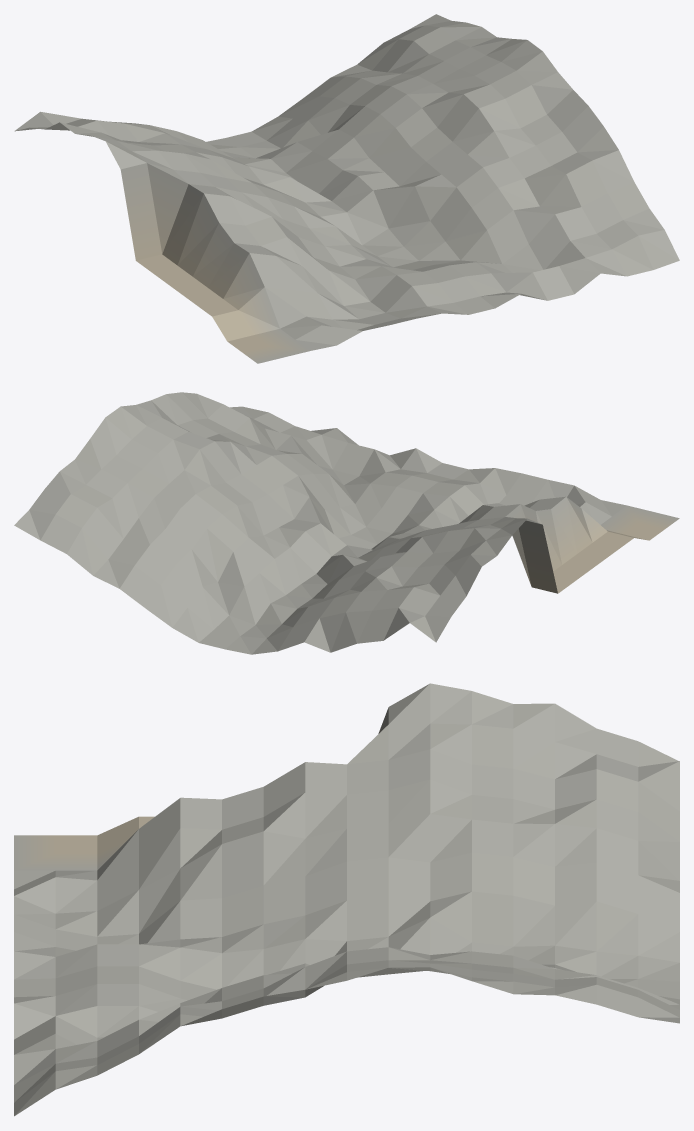
3 views of the same model, one above another, from view 1: azimuth 30°, elevation 25°; view 2: azimuth 150°, elevation 25°; view 3: azimuth 270°, elevation 25° (orthographic). The views are drawn at different scales.
Size of the model in its own units: 32 by 8.86 by 32.
